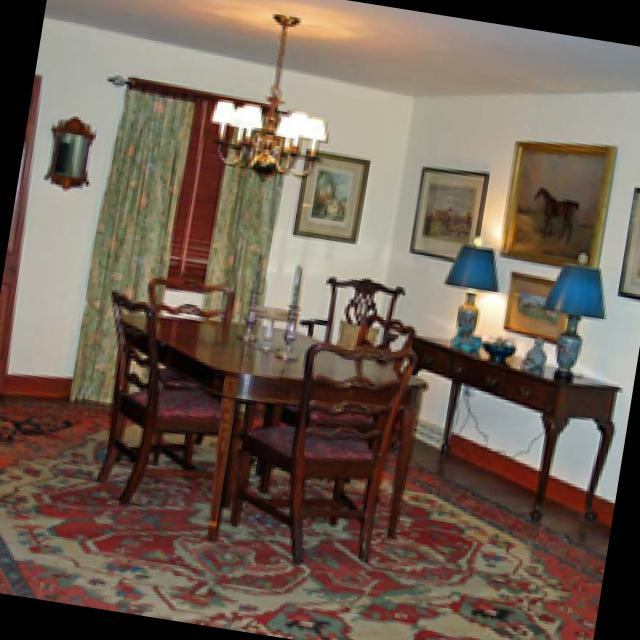2001: (90, 75, 288, 293)
bowl -X: (480, 335, 514, 359)
candle holder: (270, 263, 304, 357), (215, 233, 240, 329), (240, 249, 265, 344)
ceiling beam: (44, 0, 640, 92)
ceiling lamps: (208, 11, 321, 173)
chair: (96, 289, 216, 502), (322, 272, 402, 344), (145, 275, 231, 318)
chair -occluded-: (228, 340, 413, 561)
curtain crop: (68, 87, 193, 400), (206, 164, 280, 320)
lamp crop: (538, 260, 601, 377), (441, 237, 494, 341)
mirror crop: (42, 112, 94, 189)
painting crop: (495, 138, 611, 265), (405, 166, 485, 260), (291, 145, 366, 239), (501, 271, 564, 337), (615, 184, 640, 297)
small table part: (414, 332, 618, 519)
statue: (513, 331, 544, 366)
table -X: (121, 311, 422, 539)
wall outlets: (451, 386, 472, 402)
